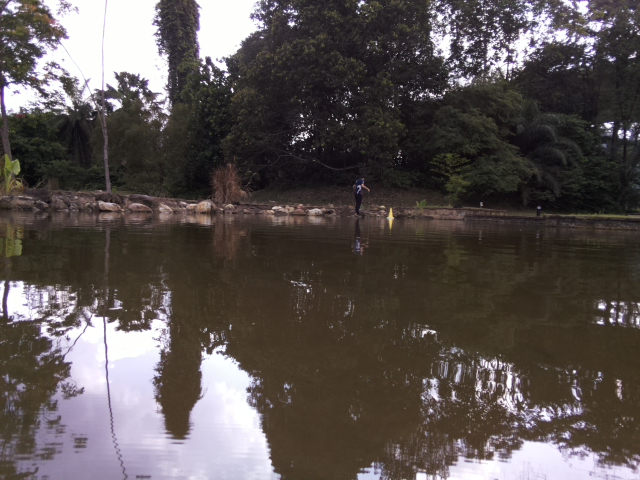checkpoint: (385, 206, 395, 220)
